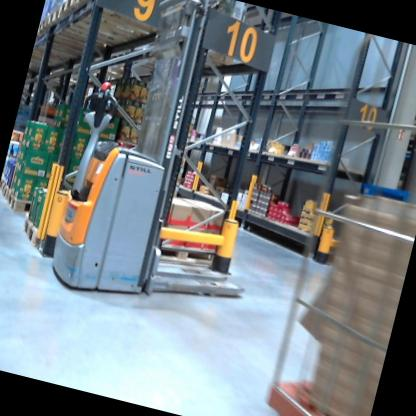pallet: (43, 0, 126, 51), (57, 0, 142, 41), (35, 17, 116, 60), (70, 0, 159, 36), (15, 209, 61, 259), (5, 185, 51, 220), (0, 178, 12, 201), (0, 174, 6, 196)
pallet_truck: (34, 0, 331, 339)
